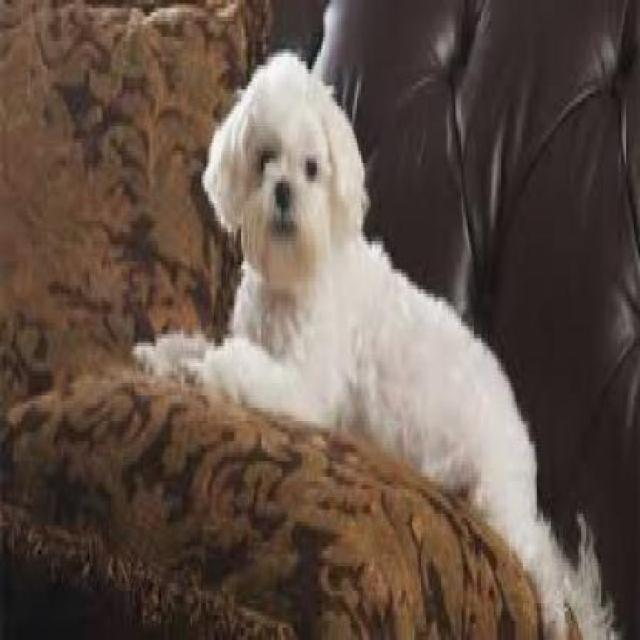Dog: (127, 47, 616, 638)
